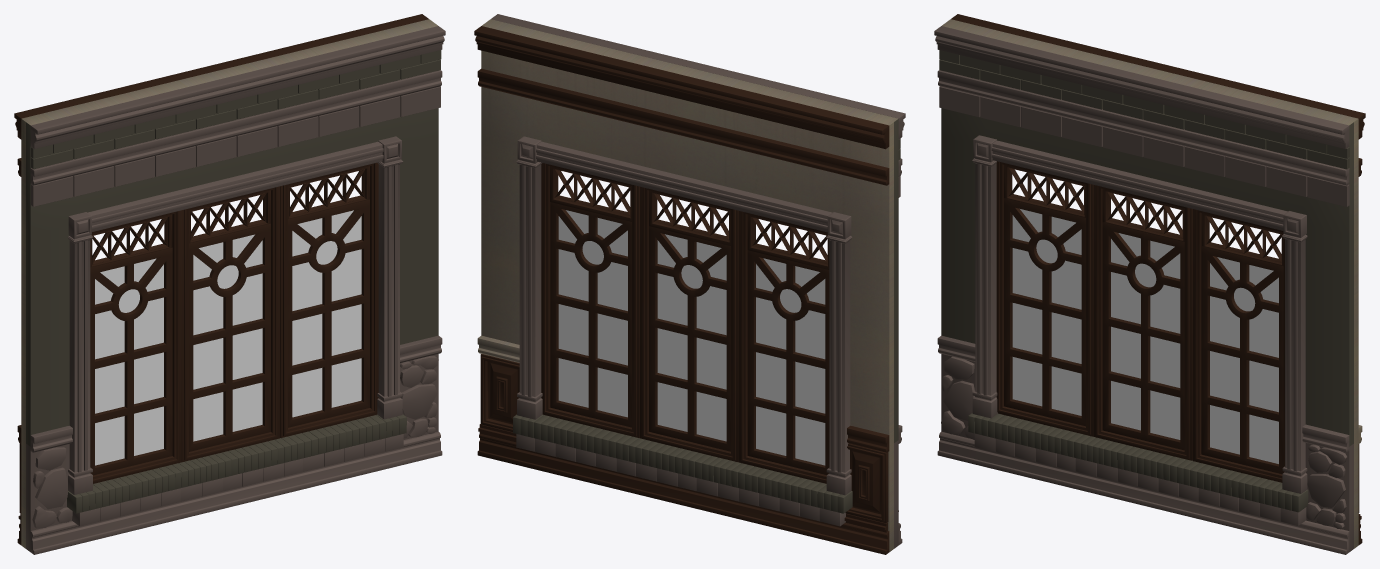
The model's file is SK5 WINDOW 2.fbx.
The picture shows the model from 3 angles, left to right: view 1: azimuth 30°, elevation 25°; view 2: azimuth 150°, elevation 25°; view 3: azimuth 330°, elevation 25°; orthographic projection.
Parts seen in each view (by area): view 1: SK5 WINDOW 2; view 2: SK5 WINDOW 2; view 3: SK5 WINDOW 2.
Boxes of the visible parts, bbox=[...] form: SK5 WINDOW 2: bbox=[14, 14, 445, 554]; SK5 WINDOW 2: bbox=[474, 14, 905, 554]; SK5 WINDOW 2: bbox=[934, 14, 1365, 554].
Size of the model in its own units: 400 by 400 by 47.83.
